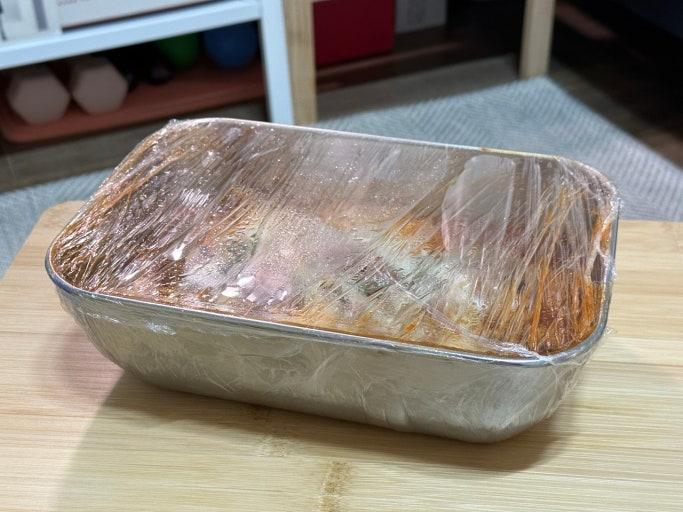Lunch Box: (46, 118, 619, 441)
